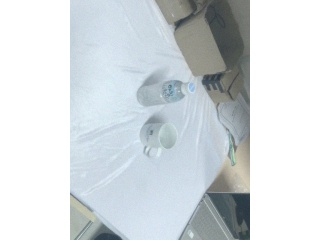bottle: (136, 80, 196, 107)
box: (175, 1, 244, 76), (203, 66, 243, 103)
cup: (139, 122, 178, 159)
